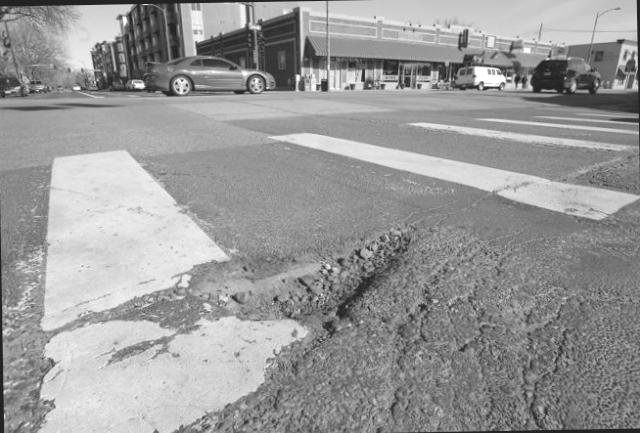Pothole: (156, 191, 454, 390)
